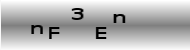3: (71, 6, 84, 21)
E: (94, 24, 108, 42)
F: (48, 25, 61, 40)
n: (29, 23, 45, 36), (113, 12, 127, 26)
